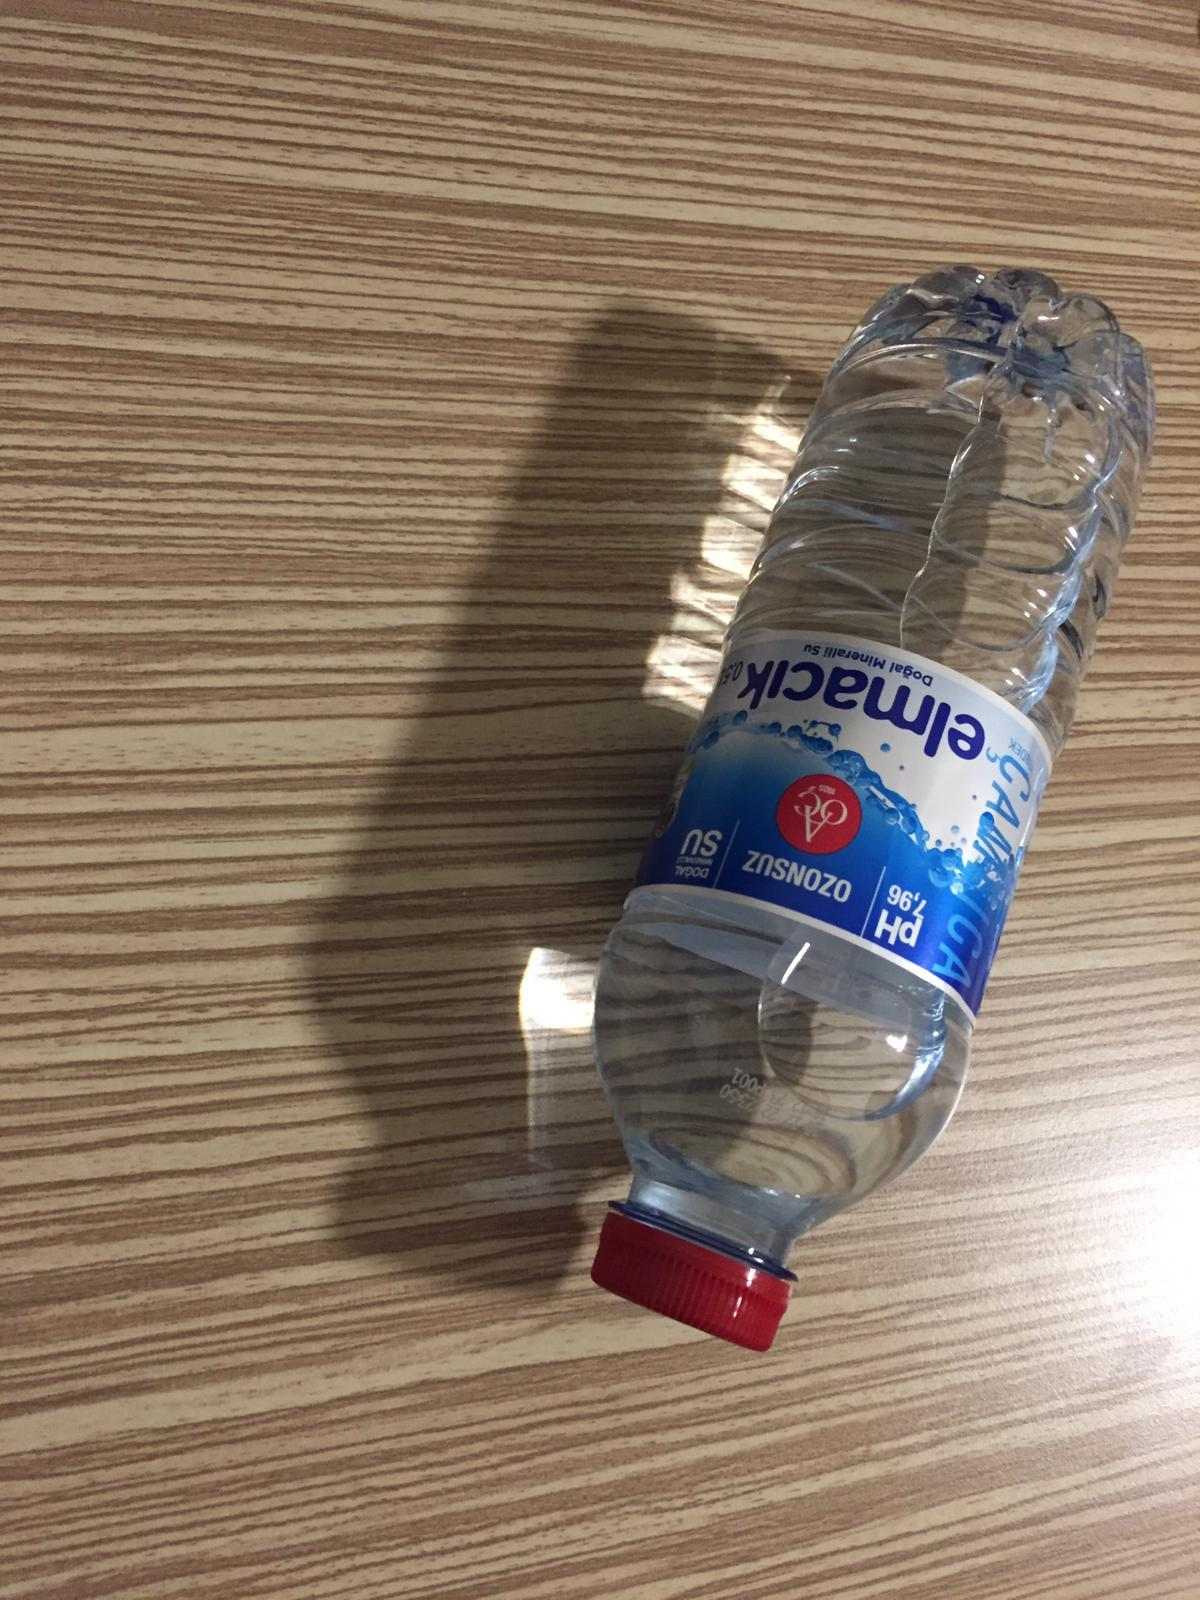bottle: (601, 265, 1141, 1351)
